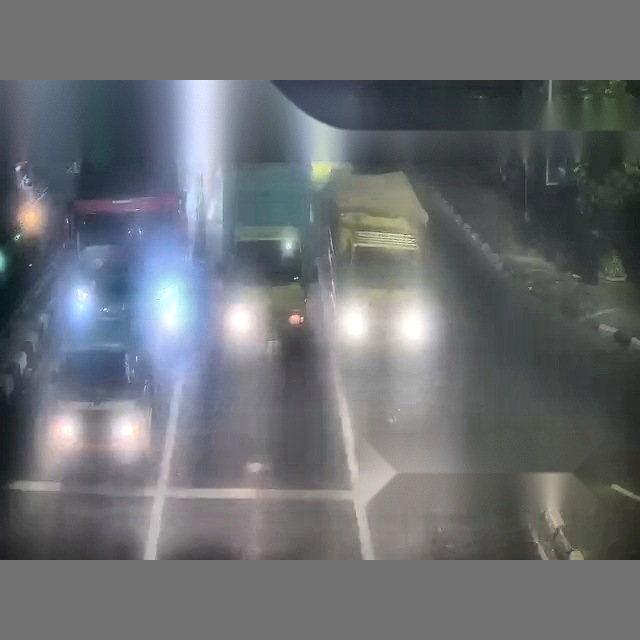Bis: (27, 82, 319, 472)
Truk: (331, 168, 428, 256)
